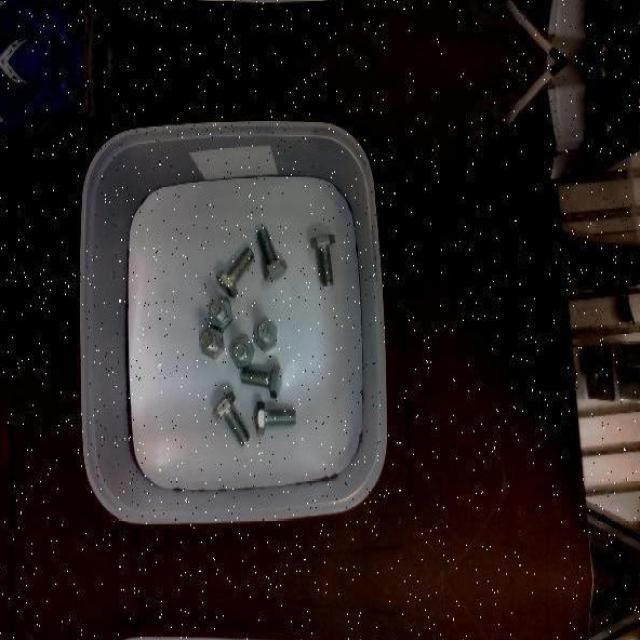screw: (214, 390, 251, 445), (216, 245, 254, 298), (257, 227, 288, 281), (241, 361, 282, 398), (312, 233, 338, 286), (255, 401, 296, 434), (229, 333, 255, 366), (200, 326, 225, 359), (254, 318, 278, 351), (208, 295, 232, 327)
